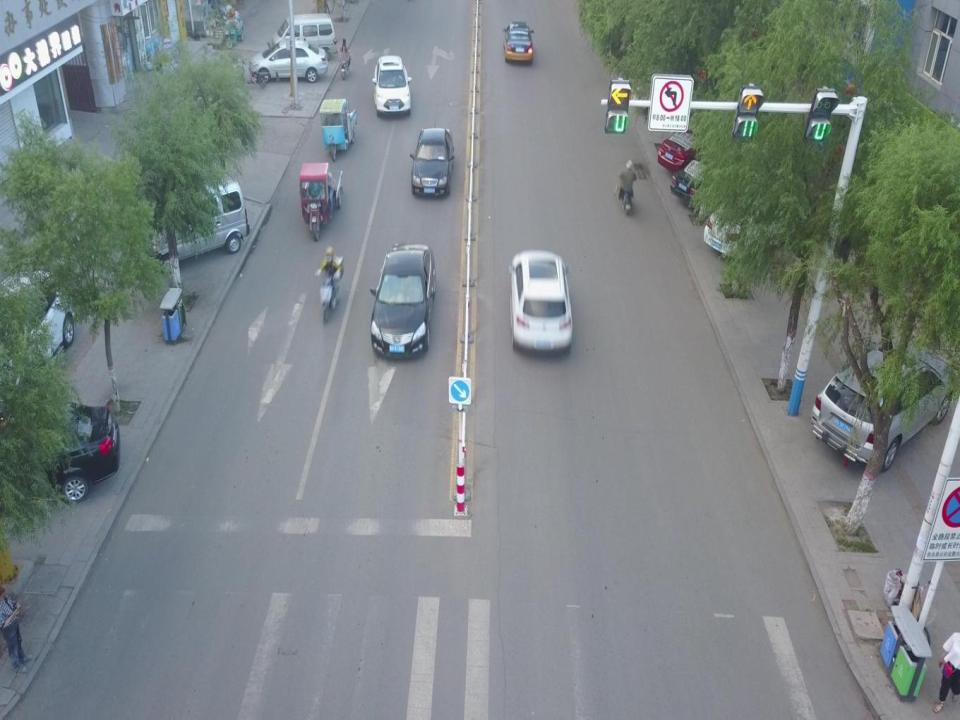car: (810, 339, 953, 472), (0, 401, 121, 505), (0, 268, 76, 402), (369, 243, 436, 359), (509, 249, 573, 354), (702, 184, 787, 259), (670, 148, 748, 212), (657, 109, 725, 173), (249, 38, 330, 82), (409, 127, 455, 198), (371, 54, 413, 116), (502, 21, 534, 64)
van: (138, 177, 250, 260), (267, 12, 337, 62)
